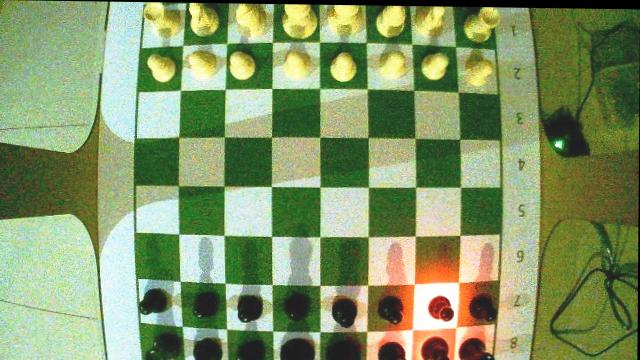piece: (281, 4, 319, 38), (324, 5, 365, 35), (464, 7, 499, 42), (145, 2, 178, 37), (234, 4, 269, 36), (411, 7, 448, 36), (188, 3, 219, 36), (375, 6, 407, 36), (185, 50, 219, 78), (465, 52, 493, 85), (227, 50, 257, 80), (379, 50, 409, 78), (330, 51, 358, 81), (457, 338, 494, 360), (145, 334, 176, 360), (331, 296, 357, 327), (280, 337, 315, 360), (421, 51, 449, 79), (140, 289, 171, 314), (147, 54, 175, 81), (378, 295, 403, 324), (283, 291, 307, 321), (284, 49, 308, 78), (420, 337, 450, 360), (470, 295, 496, 321), (238, 294, 262, 322), (428, 297, 456, 321), (325, 342, 360, 360), (193, 338, 221, 360), (193, 291, 216, 317), (378, 339, 406, 360), (237, 339, 265, 360)
